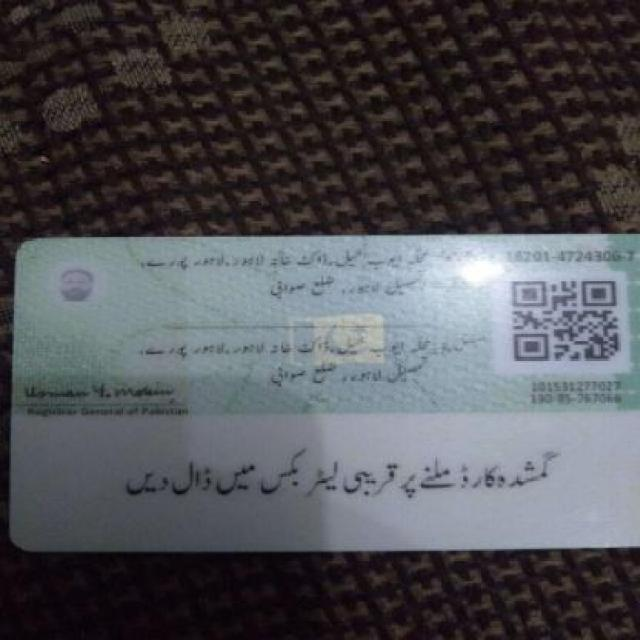Back: (14, 232, 640, 552)
